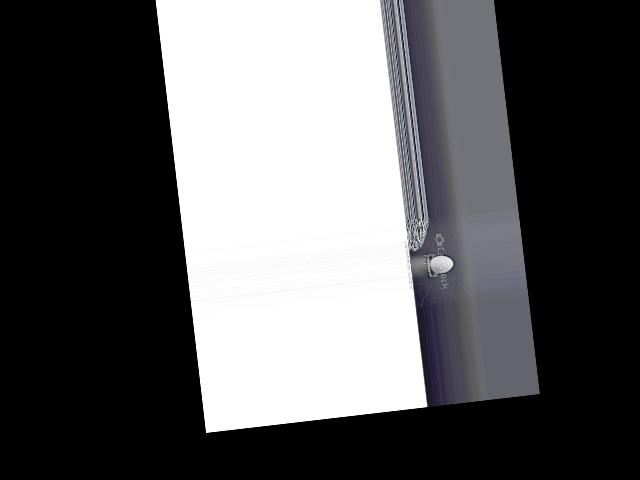egg: (428, 254, 453, 274)
